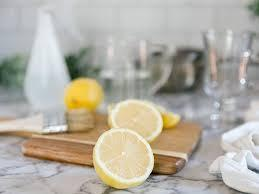lemon: (93, 128, 154, 189), (108, 99, 163, 143), (64, 78, 102, 111)
